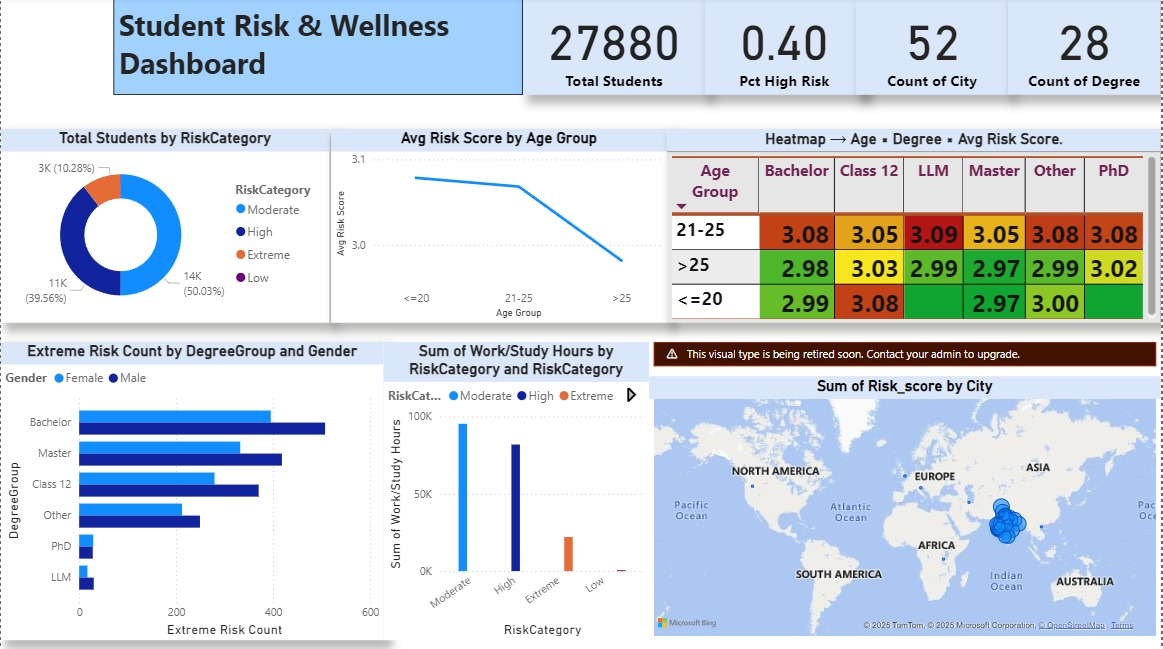

What the dashboard file says about the page in this screenshot:
{"tool":"powerbi","page":{"name":"Final Dashboard","canvas":[1280,720],"ordinal":3},"visuals":[{"type":"textbox","box":[124.2,0,452.2,107.7],"z":0},{"type":"card","fields":{"Values":["student_depression_dataset.Total Students"]},"box":[576.5,0,200.4,107.7],"z":1000},{"type":"card","fields":{"Values":["student_depression_dataset.Pct High Risk"]},"box":[776.9,0,175.6,107.7],"z":2000},{"type":"card","fields":{"Values":["Count(student_depression_dataset.City)"]},"box":[944.2,0,167.3,107.7],"z":3000},{"type":"card","fields":{"Values":["Count(student_depression_dataset.Degree)"]},"box":[1111.5,0,169,107.7],"z":4000},{"type":"donutChart","fields":{"Category":["student_depression_dataset.RiskCategory"],"Y":["student_depression_dataset.Total Students"]},"box":[0,145.4,363.4,213.5],"z":5000},{"type":"lineChart","fields":{"Category":["student_depression_dataset.Age Group"],"Y":["student_depression_dataset.Avg Risk Score"]},"box":[364.4,145.8,371.1,213.7],"z":6000},{"type":"map","fields":{"Category":["student_depression_dataset.City"],"Size":["Sum(student_depression_dataset.Risk_score)"]},"box":[715.6,381,564.9,329.6],"z":7000},{"type":"clusteredBarChart","fields":{"Category":["student_depression_dataset.DegreeGroup"],"Y":["student_depression_dataset.Extreme Risk Count"],"Series":["student_depression_dataset.Gender"]},"box":[0,381,422.4,329.6],"z":8000},{"type":"clusteredColumnChart","fields":{"Category":["student_depression_dataset.RiskCategory"],"Y":["Sum(student_depression_dataset.Work/Study Hours)"],"Series":["student_depression_dataset.RiskCategory"]},"box":[422.4,381,293.2,329.6],"z":9000},{"type":"pivotTable","title":"Heatmap → Age × Degree × Avg Risk Score.","fields":{"Values":["Avg(student_depression_dataset.Risk_score)"],"Rows":["student_depression_dataset.Age Group"],"Columns":["student_depression_dataset.DegreeGroup"]},"box":[735.5,145.8,545,213.7],"z":10000},{"type":"shape","box":[0,0,124.2,107.7],"z":11000},{"type":"image","box":[0,0,124.2,107.7],"z":12000}]}

Visuals, with their boxes in screenshot pixels (x1, y1, x2, y2), scaled from the page's 1280x720 canvas onto the 1163x649 screenshot:
textbox: (x1=113, y1=0, x2=524, y2=97)
card - student_depression_dataset.Total Students: (x1=524, y1=0, x2=706, y2=97)
card - student_depression_dataset.Pct High Risk: (x1=706, y1=0, x2=865, y2=97)
card - Count(student_depression_dataset.City): (x1=858, y1=0, x2=1010, y2=97)
card - Count(student_depression_dataset.Degree): (x1=1010, y1=0, x2=1162, y2=97)
donutChart - student_depression_dataset.RiskCategory x student_depression_dataset.Total Students: (x1=0, y1=131, x2=330, y2=324)
lineChart - student_depression_dataset.Age Group x student_depression_dataset.Avg Risk Score: (x1=331, y1=131, x2=668, y2=324)
map - student_depression_dataset.City x Sum(student_depression_dataset.Risk_score): (x1=650, y1=343, x2=1162, y2=641)
clusteredBarChart - student_depression_dataset.DegreeGroup x student_depression_dataset.Extreme Risk Count: (x1=0, y1=343, x2=384, y2=641)
clusteredColumnChart - student_depression_dataset.RiskCategory x Sum(student_depression_dataset.Work/Study Hours): (x1=384, y1=343, x2=650, y2=641)
"Heatmap → Age × Degree × Avg Risk Score." pivotTable: (x1=668, y1=131, x2=1162, y2=324)
shape: (x1=0, y1=0, x2=113, y2=97)
image: (x1=0, y1=0, x2=113, y2=97)
